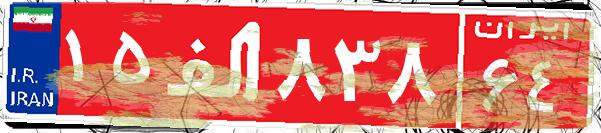1: (57, 26, 110, 107)
3: (330, 28, 385, 110)
4: (525, 38, 570, 115)
5: (110, 28, 158, 105)
6: (475, 38, 525, 113)
8: (385, 28, 445, 110), (273, 28, 330, 110)
الف: (158, 15, 273, 115)
